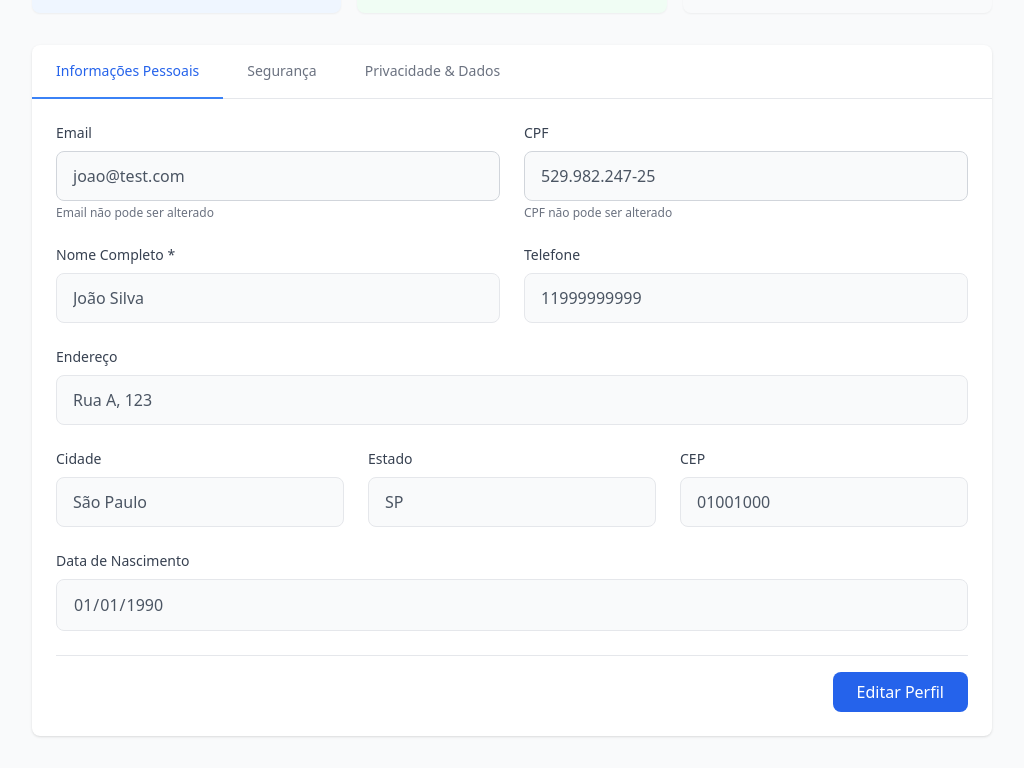
it: ProfilePage › enters edit mode and cancels
(page scrolled)
Click the button "Editar Perfil" at (900, 692), box [832, 672, 968, 712]
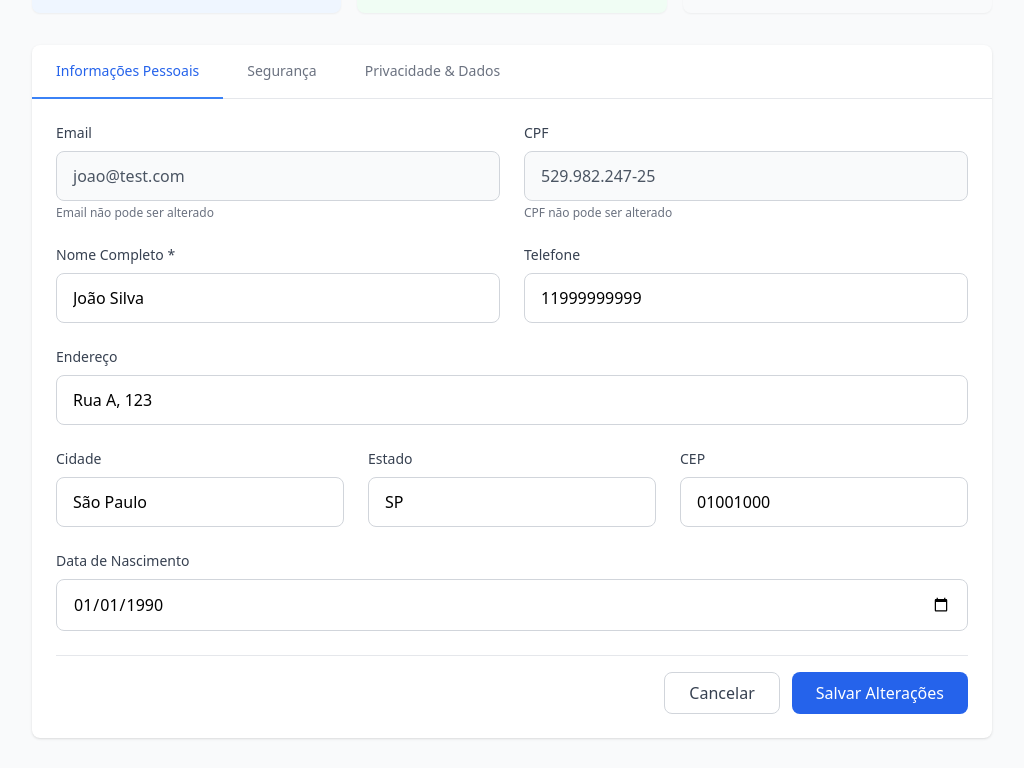
Check: the button "Salvar Alterações" is shown, box [792, 672, 968, 714]
Check: the button "Cancelar" is shown
Click the button "Cancelar" at (722, 693), box [664, 672, 780, 714]
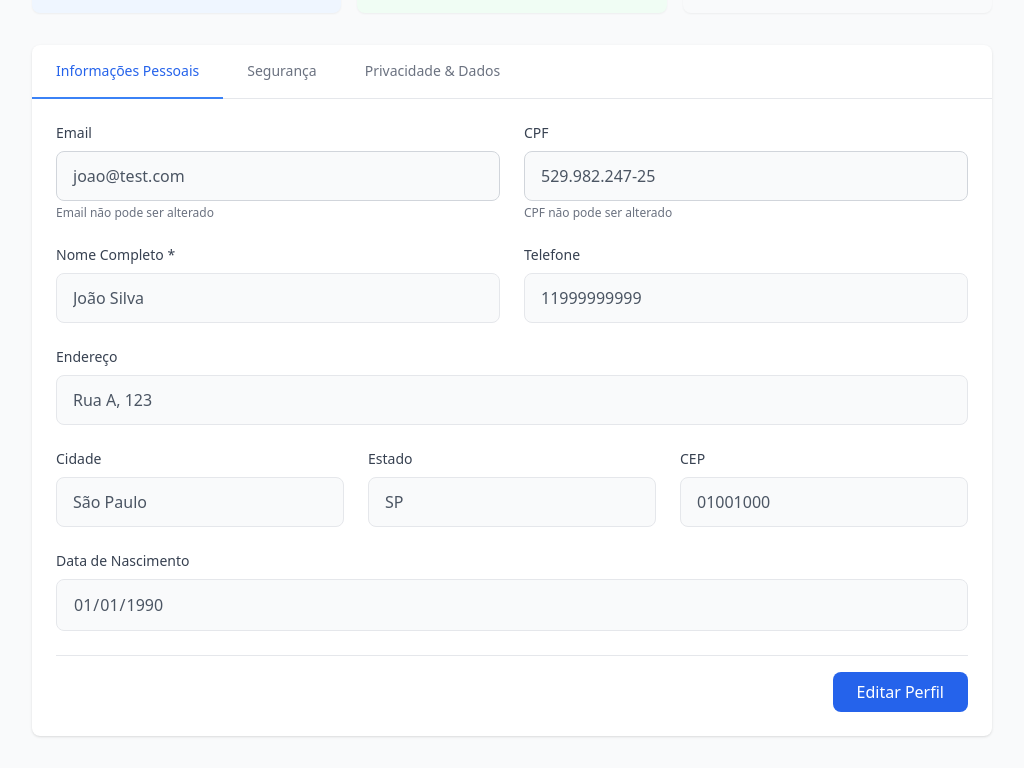
Check: the button "Editar Perfil" is shown, box [832, 672, 968, 712]
